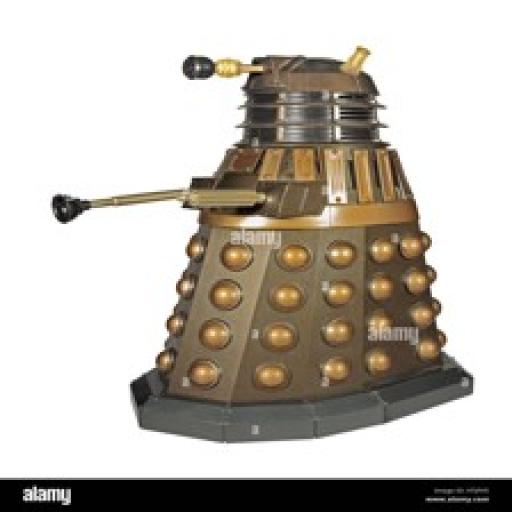dalek: (30, 38, 480, 448)
